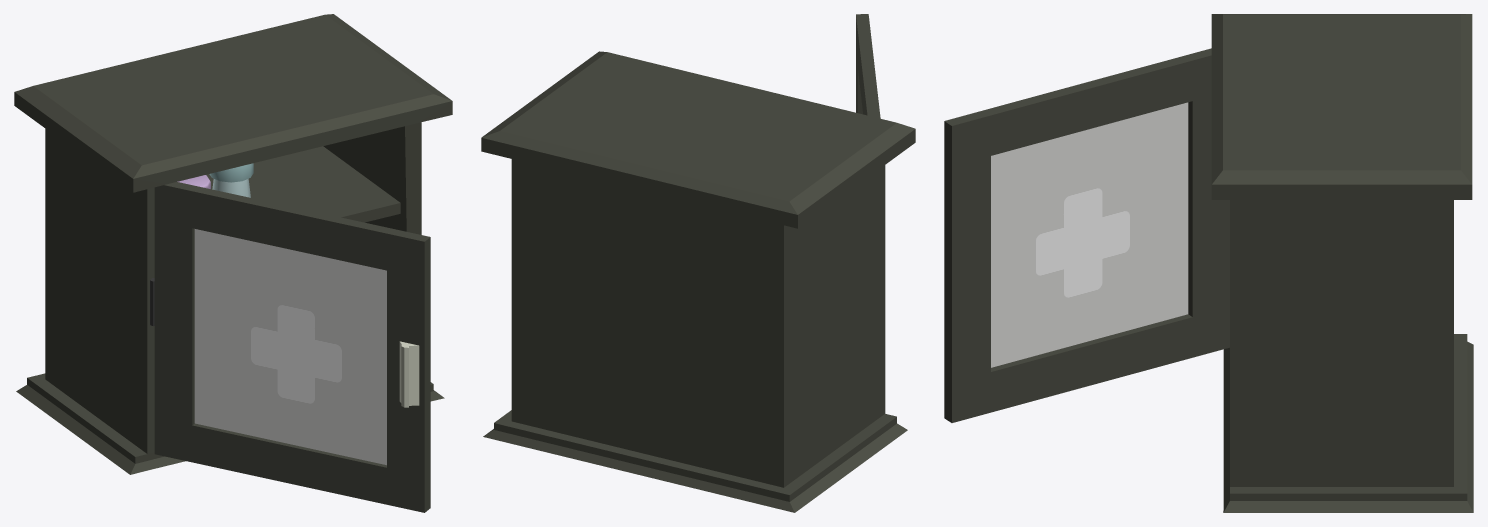
File: OpenMedicineCabinet.fbx
3 renders of one model, left to right at view 1: azimuth 30°, elevation 25°; view 2: azimuth 150°, elevation 25°; view 3: azimuth 270°, elevation 25°, orthographic. The views are drawn at different scales.
Visible parts, largest first — view 1: MedicineCabinet_Base, MedicineCabinet_Door, MedicineCabinet_Glass, MedicineCabinet_Shelf_1, MedicineCabinet_Handle, ClosedPillBottle_1; view 2: MedicineCabinet_Base, MedicineCabinet_Door; view 3: MedicineCabinet_Base, MedicineCabinet_Door, MedicineCabinet_Glass.
Part boxes in pixels (left/top/right/bottom): MedicineCabinet_Base: left=14, top=14, right=452, bottom=474; MedicineCabinet_Door: left=154, top=182, right=430, bottom=512; MedicineCabinet_Glass: left=194, top=229, right=386, bottom=465; MedicineCabinet_Shelf_1: left=206, top=146, right=400, bottom=222; MedicineCabinet_Handle: left=399, top=341, right=419, bottom=407; ClosedPillBottle_1: left=209, top=163, right=253, bottom=197; MedicineCabinet_Base: left=481, top=51, right=915, bottom=512; MedicineCabinet_Door: left=856, top=14, right=880, bottom=118; MedicineCabinet_Base: left=1211, top=14, right=1473, bottom=512; MedicineCabinet_Door: left=944, top=48, right=1229, bottom=422; MedicineCabinet_Glass: left=991, top=102, right=1188, bottom=367.
Bounding box in the file's own units: 266 × 244 × 348.
